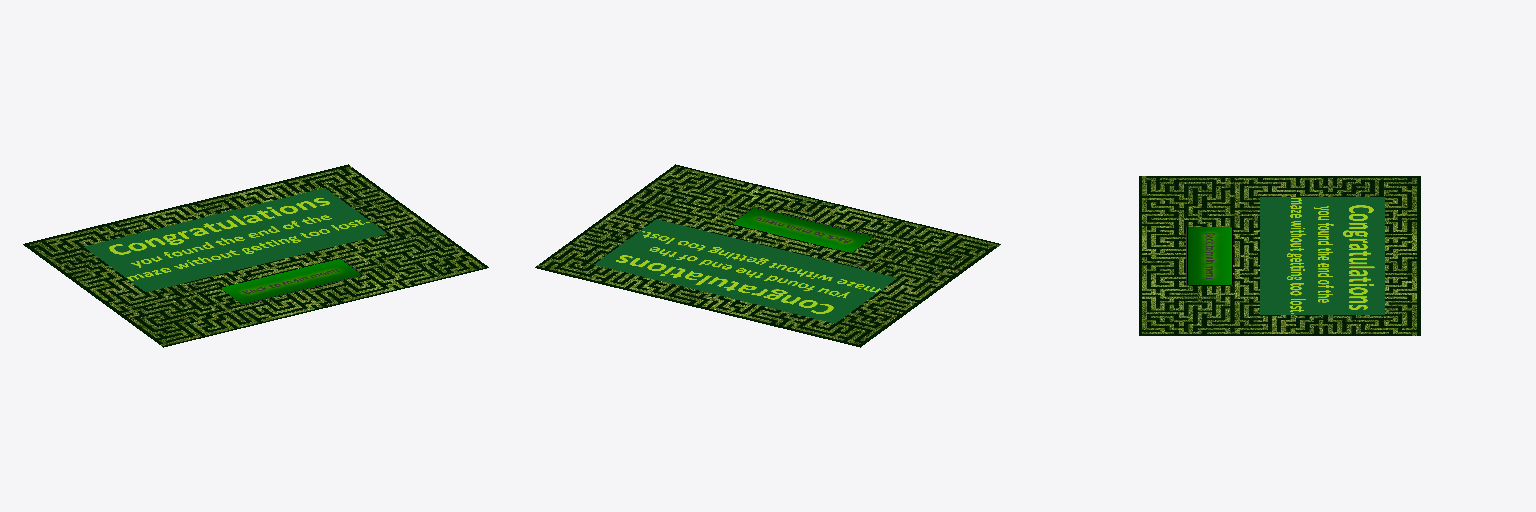
3 views of the same model, side by side, from view 1: azimuth 30°, elevation 25°; view 2: azimuth 150°, elevation 25°; view 3: azimuth 270°, elevation 25° (orthographic).
Parts seen in each view (by area): view 1: Plane; view 2: Plane; view 3: Plane.
Boxes of the visible parts, x1,y1,x2,y2 form: Plane: [23, 164, 488, 347]; Plane: [535, 164, 1000, 347]; Plane: [1139, 176, 1420, 335].
Bounding box in the file's own units: 8 × 0 × 6.
1 materials, 1 textured.